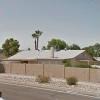Chimney: (46, 43, 58, 60)
